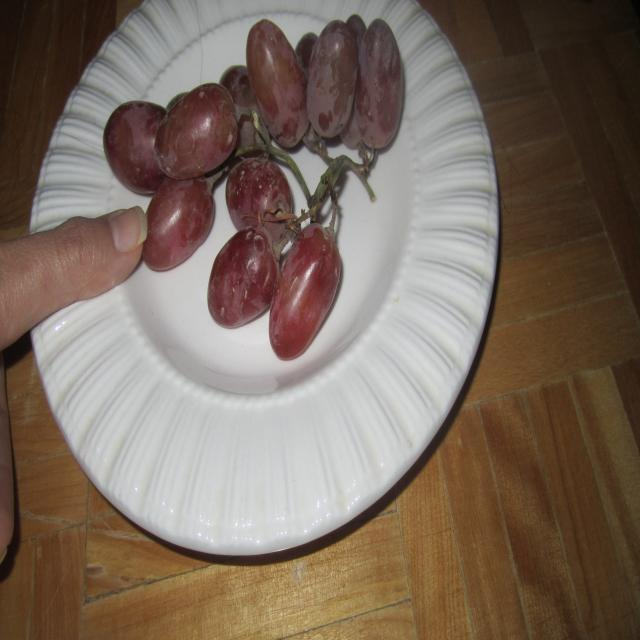grapes: (102, 13, 404, 361)
